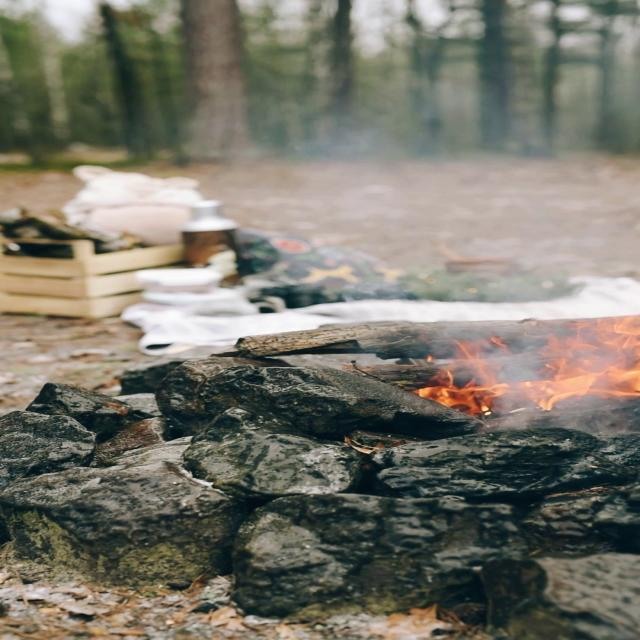Fire: (430, 292, 640, 423)
Smoke: (189, 70, 640, 295)
